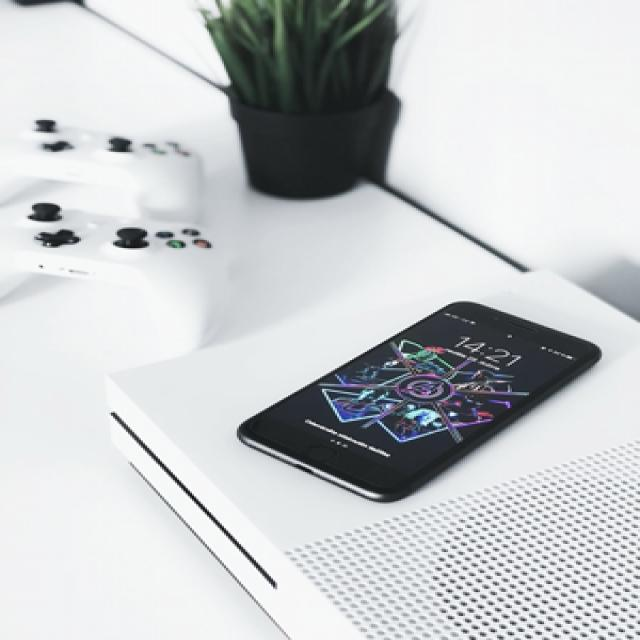cellphone: (234, 298, 602, 502)
